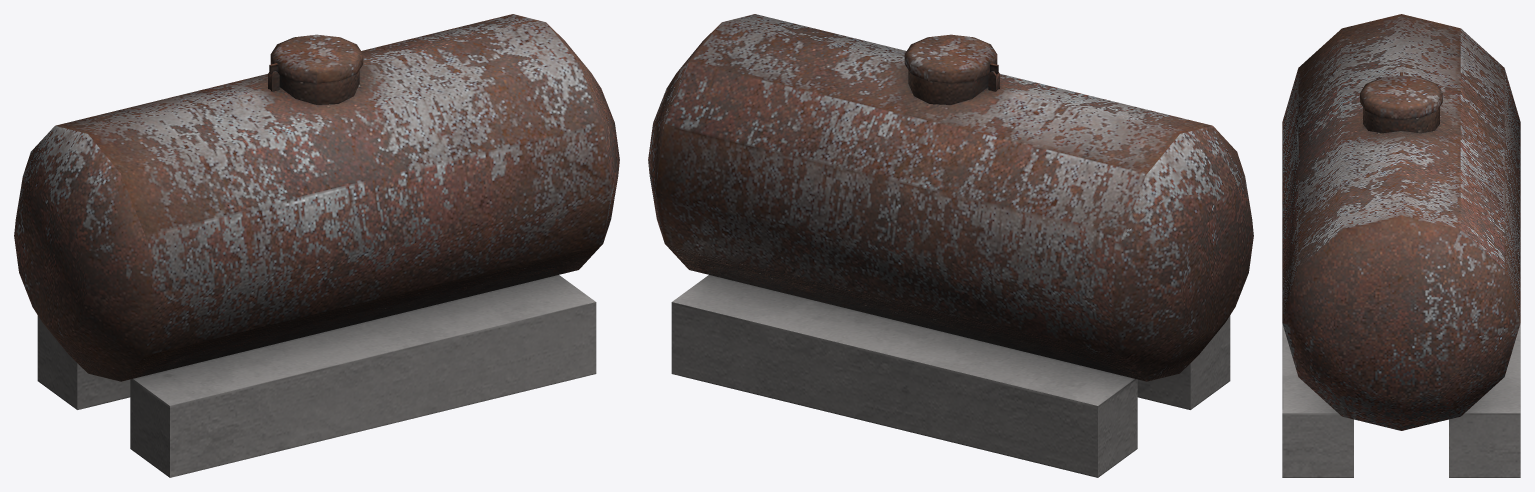
File: Lowpoly_rusty_tank.glb
The picture shows the model from 3 angles, left to right: view 1: azimuth 30°, elevation 25°; view 2: azimuth 150°, elevation 25°; view 3: azimuth 270°, elevation 25°; orthographic projection. The views are drawn at different scales.
Parts seen in each view (by area): view 1: unnamed; view 2: unnamed; view 3: unnamed.
Boxes of the visible parts, left/top/right/bottom form: unnamed: left=14, top=14, right=619, bottom=477; unnamed: left=648, top=14, right=1253, bottom=477; unnamed: left=1282, top=14, right=1520, bottom=477.
Bounding box in the file's own units: 4.65 × 2.73 × 2.
Materials: 1 (1 with a texture image).
